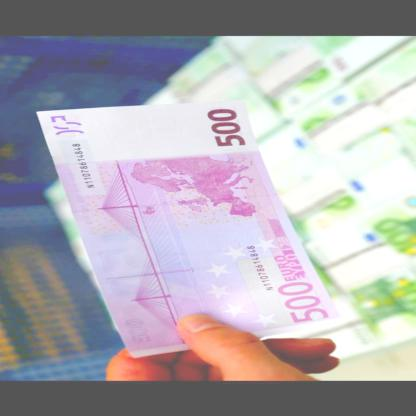euro_banknote: (33, 111, 341, 321)
